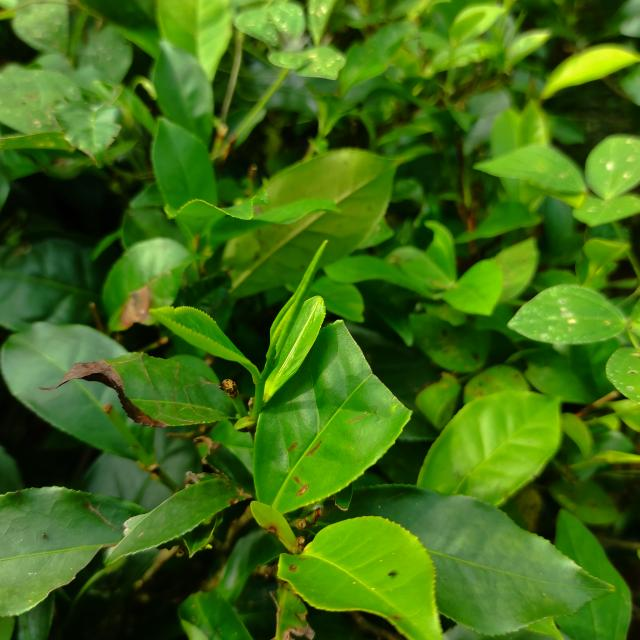unopened_leaf: (256, 232, 334, 375)
